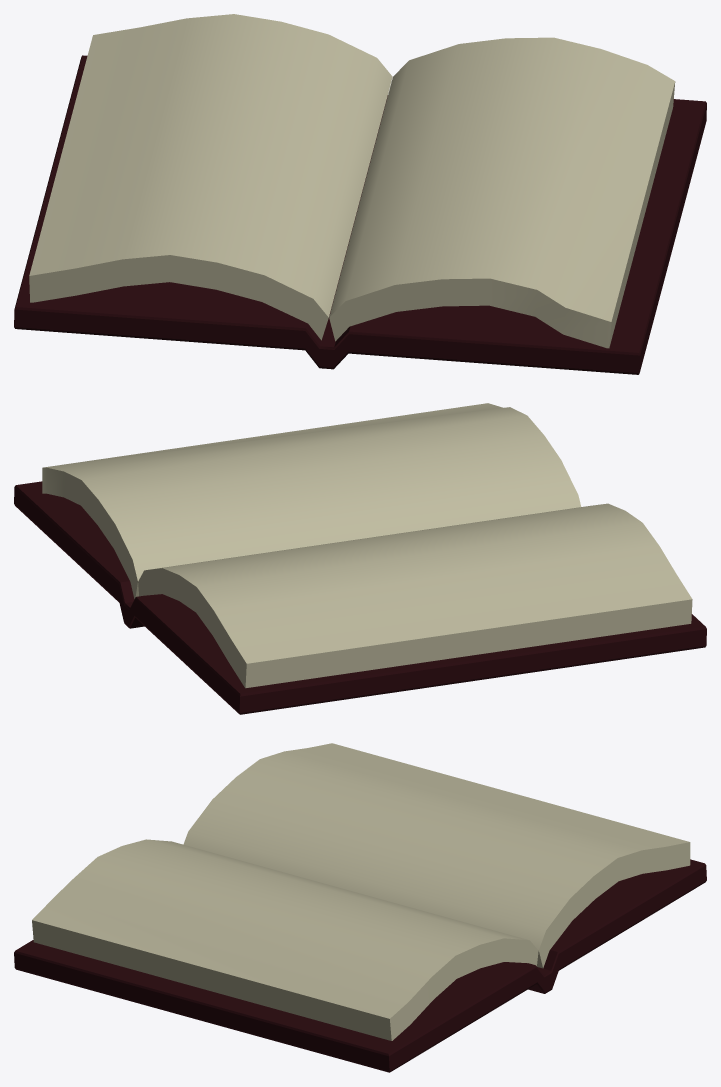
File: Notepad.fbx
3 views of the same model, one above another, from view 1: azimuth 30°, elevation 25°; view 2: azimuth 150°, elevation 25°; view 3: azimuth 270°, elevation 25° (orthographic). The views are drawn at different scales.
Visible parts, largest first — view 1: Textured.006; view 2: Textured.006; view 3: Textured.006.
Part boxes in pixels (x1,y1,x2,y2): Textured.006: [14, 14, 706, 374]; Textured.006: [14, 403, 706, 714]; Textured.006: [14, 743, 706, 1072].
Bounding box in the file's own units: 31.87 × 5.04 × 31.32.
